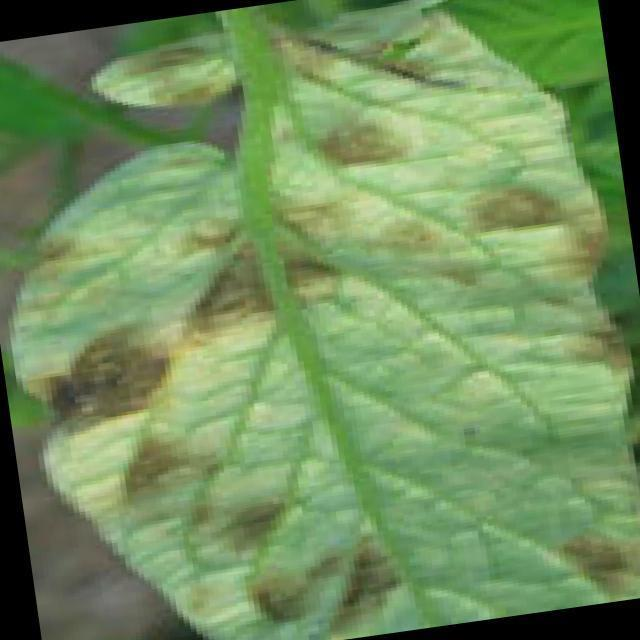Mosaic Virus: (22, 85, 614, 640)
